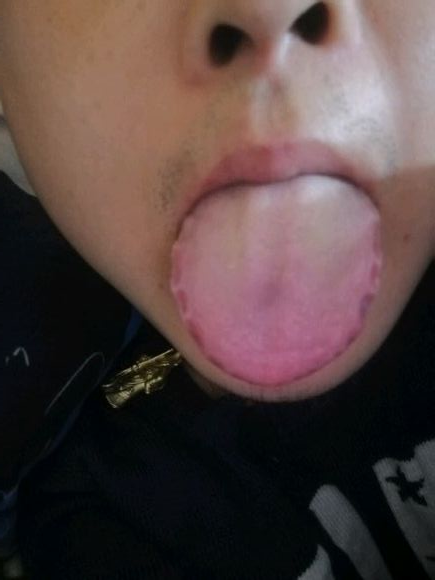chihenshe: (170, 212, 222, 368), (356, 216, 381, 331)
huangtaishe: (169, 174, 381, 386)
zishe: (169, 174, 381, 386)
